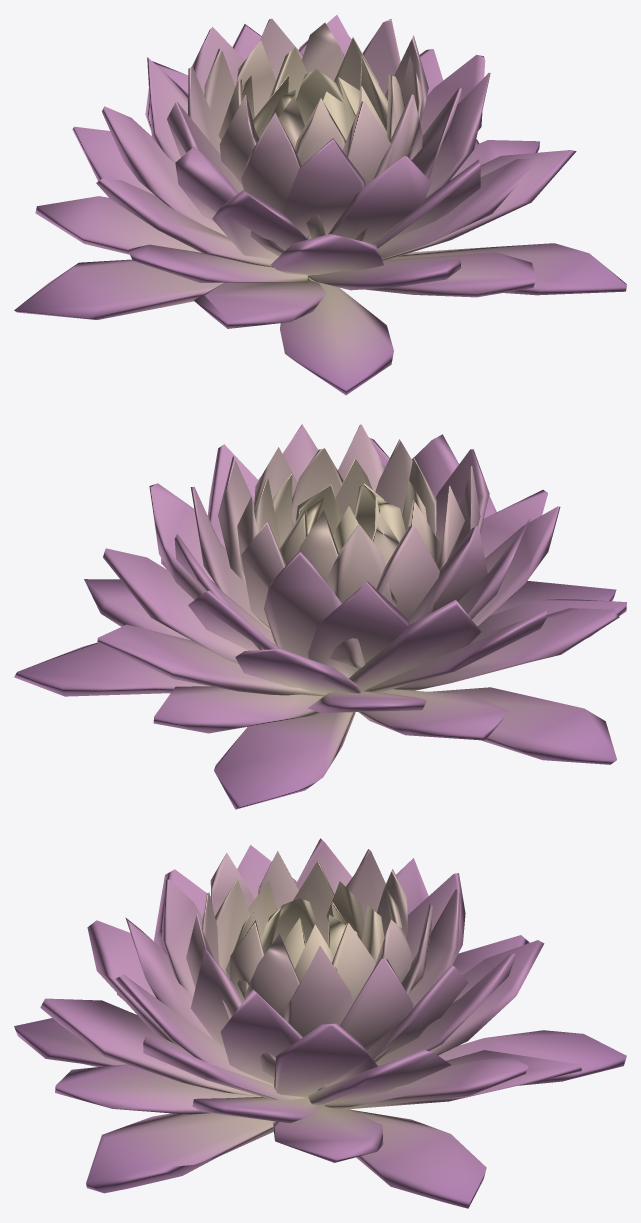
Rendered from hoa-dang-sen-nhe.glb.
The picture shows the model from 3 angles, top to bottom: view 1: azimuth 30°, elevation 25°; view 2: azimuth 150°, elevation 25°; view 3: azimuth 270°, elevation 25°; orthographic projection. The views are drawn at different scales.
Parts seen in each view (by area): view 1: Lotus Flower by Geometry Nodes; view 2: Lotus Flower by Geometry Nodes; view 3: Lotus Flower by Geometry Nodes.
Part boxes in pixels (x1=…): Lotus Flower by Geometry Nodes: x1=14, y1=15, x2=626, y2=395; Lotus Flower by Geometry Nodes: x1=14, y1=424, x2=626, y2=809; Lotus Flower by Geometry Nodes: x1=14, y1=838, x2=626, y2=1208.
Size of the model in its own units: 0.9287 by 0.3674 by 0.9353.
